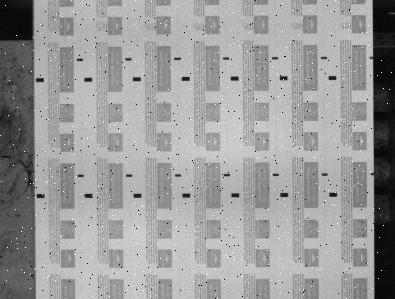backgroundclutter: (30, 274, 34, 278)
incorrect qblock: (370, 56, 374, 59), (371, 173, 375, 176)
qblock: (36, 194, 45, 199), (36, 78, 44, 83), (134, 194, 142, 199), (281, 193, 289, 198), (232, 193, 240, 198), (85, 194, 93, 199), (133, 77, 141, 82), (84, 77, 92, 82), (280, 76, 288, 81), (231, 76, 239, 81), (182, 194, 191, 198), (330, 193, 338, 197), (182, 77, 190, 81), (329, 76, 337, 80)
smallqblock: (126, 174, 133, 178), (125, 58, 132, 61), (272, 57, 279, 60), (223, 57, 230, 60), (321, 56, 328, 59), (174, 57, 181, 60), (77, 175, 84, 178), (224, 174, 231, 177), (273, 174, 280, 177), (77, 58, 83, 61), (175, 174, 181, 177), (322, 173, 328, 176)
